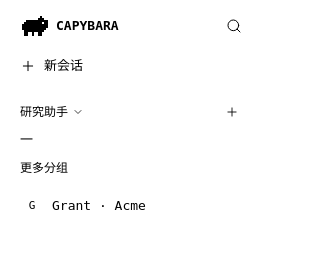
Scenario: useConversationGroups › More groups appends the next page, de-duplicating groups by agent id
Expected: the link "一" is shown, top-left (20, 132), bottom-right (33, 147)
What coordinates should you click on to do the following:
click the button "更多分组"
I would click on:
 (128, 168)
Its box is top-left (8, 154), bottom-right (248, 182).
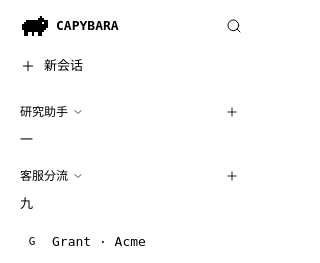
Expected: the link "九" is shown, top-left (20, 196), bottom-right (33, 211)
Expected: the number of buttons "研究助手" is 1, top-left (8, 98), bottom-right (220, 126)
Expected: the button "更多分组" is gone
